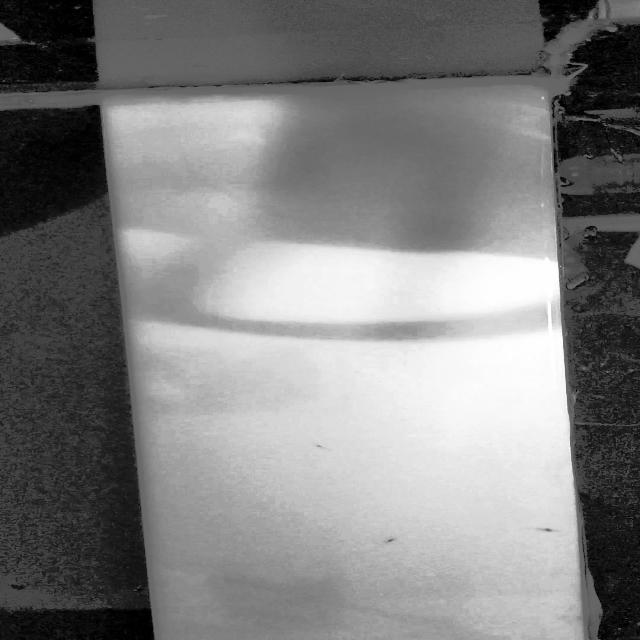shrimp: (371, 534, 414, 553), (523, 521, 556, 538)
